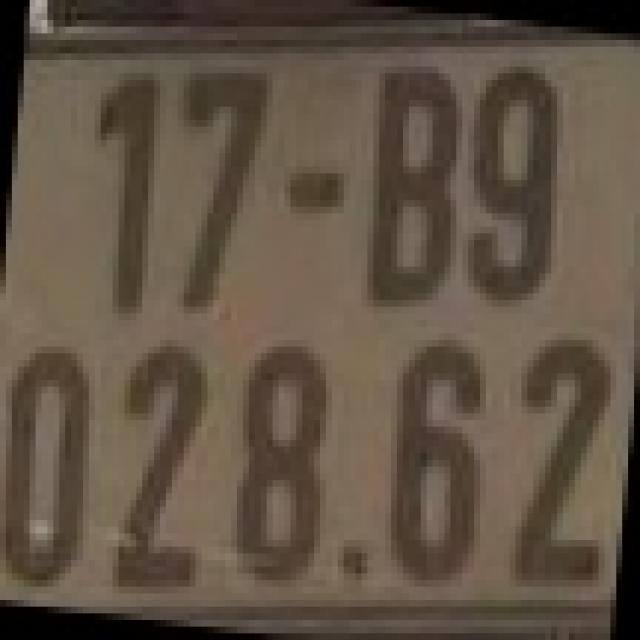0: (0, 340, 95, 586)
1: (89, 66, 166, 314)
2: (510, 333, 610, 587), (112, 340, 208, 594)
6: (386, 340, 486, 586)
7: (178, 59, 272, 314)
8: (231, 340, 332, 580)
9: (462, 61, 563, 306)
B: (362, 59, 462, 314)
